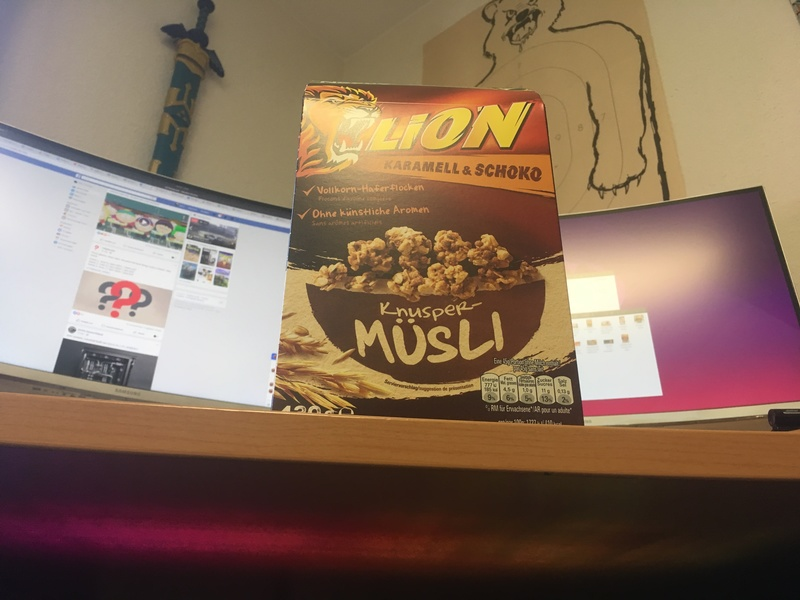cereals: (271, 80, 586, 425)
